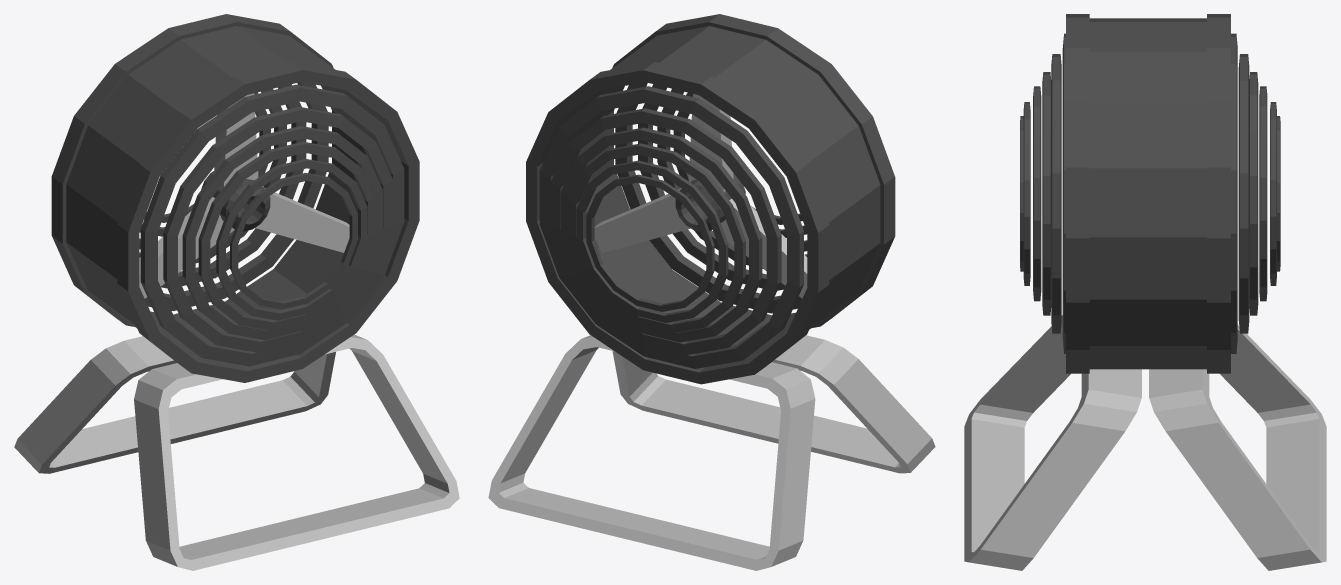
File: Props_Fan_01.fbx
3 views of the same model, side by side, from view 1: azimuth 30°, elevation 25°; view 2: azimuth 150°, elevation 25°; view 3: azimuth 270°, elevation 25° (orthographic). The views are drawn at different scales.
Visible parts, largest first — view 1: Props_Fan_01; view 2: Props_Fan_01; view 3: Props_Fan_01.
Boxes of the visible parts, left/top/right/bottom form: Props_Fan_01: left=14, top=14, right=459, bottom=570; Props_Fan_01: left=488, top=14, right=935, bottom=570; Props_Fan_01: left=964, top=14, right=1326, bottom=570.
Size of the model in its own units: 68.5 by 97.99 by 68.5.
